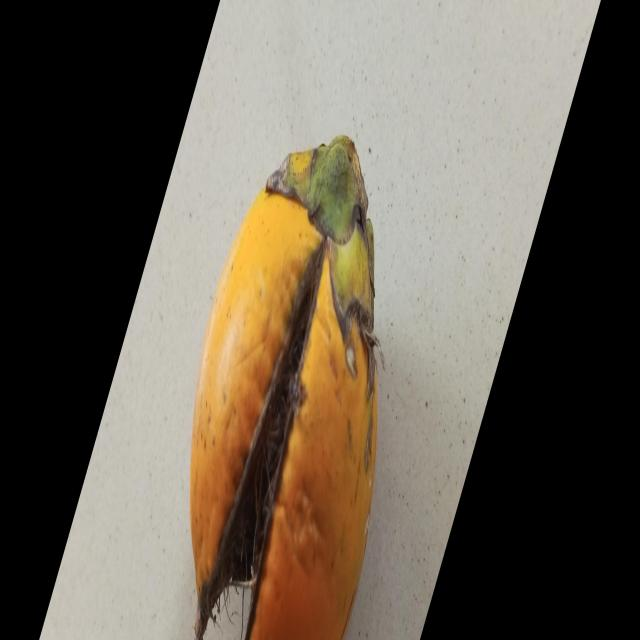damaged: (189, 137, 379, 640)
